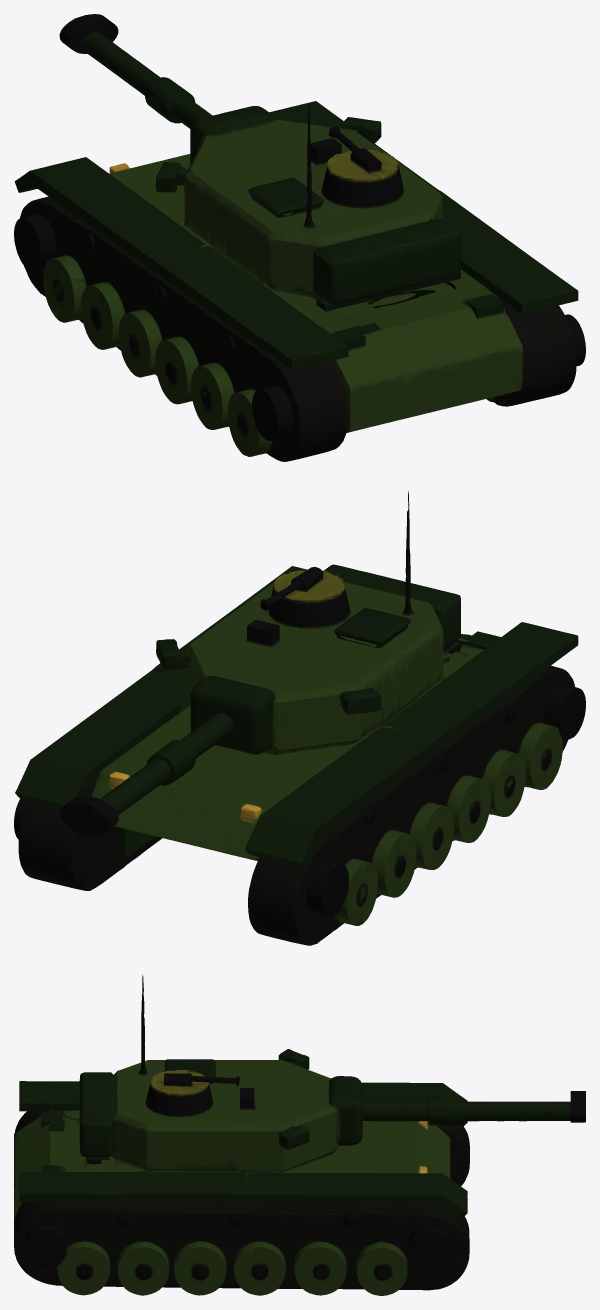
File: tank-trellis.glb
3 views of the same model, one above another, from view 1: azimuth 30°, elevation 25°; view 2: azimuth 150°, elevation 25°; view 3: azimuth 270°, elevation 25° (orthographic). The views are drawn at different scales.
Visible parts, largest first — view 1: geometry_0; view 2: geometry_0; view 3: geometry_0.
Boxes of the visible parts, left/top/right/bottom form: geometry_0: left=14, top=14, right=585, bottom=461; geometry_0: left=14, top=491, right=585, bottom=945; geometry_0: left=14, top=974, right=585, bottom=1295.
Size of the model in its own units: 0.5027 by 0.4692 by 1.
Materials: 1 (1 with a texture image).
